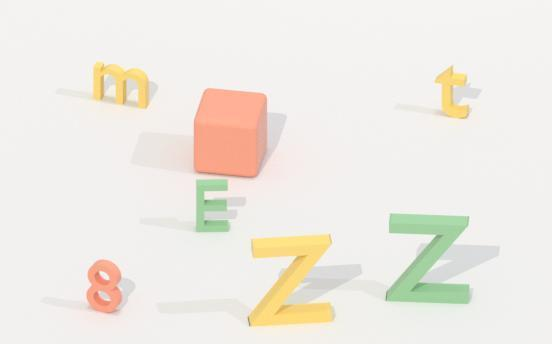chu_khoi: (248, 234, 332, 325), (386, 214, 469, 303), (93, 62, 148, 107), (435, 66, 469, 117), (196, 179, 229, 231)
lap_phuong: (194, 88, 267, 176)
so_khoi: (87, 260, 121, 312)
